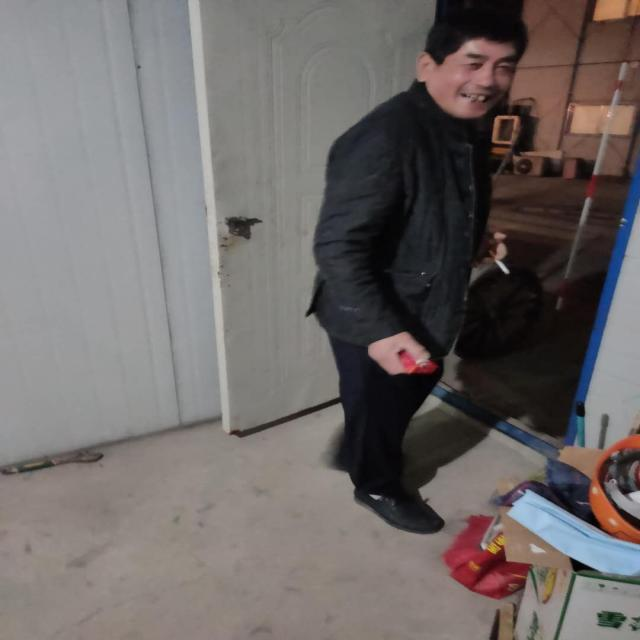smoke: (490, 249, 516, 279)
